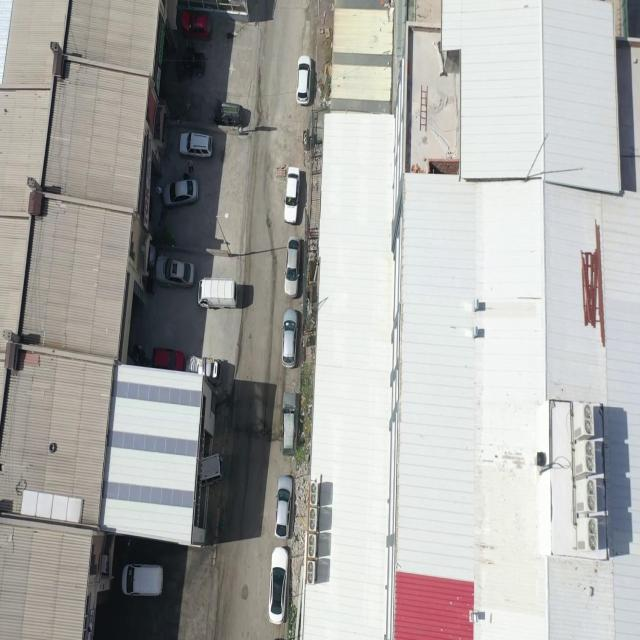p3rson: (186, 156, 193, 173), (156, 184, 163, 198), (188, 66, 193, 80), (182, 172, 190, 180), (188, 42, 194, 52)
